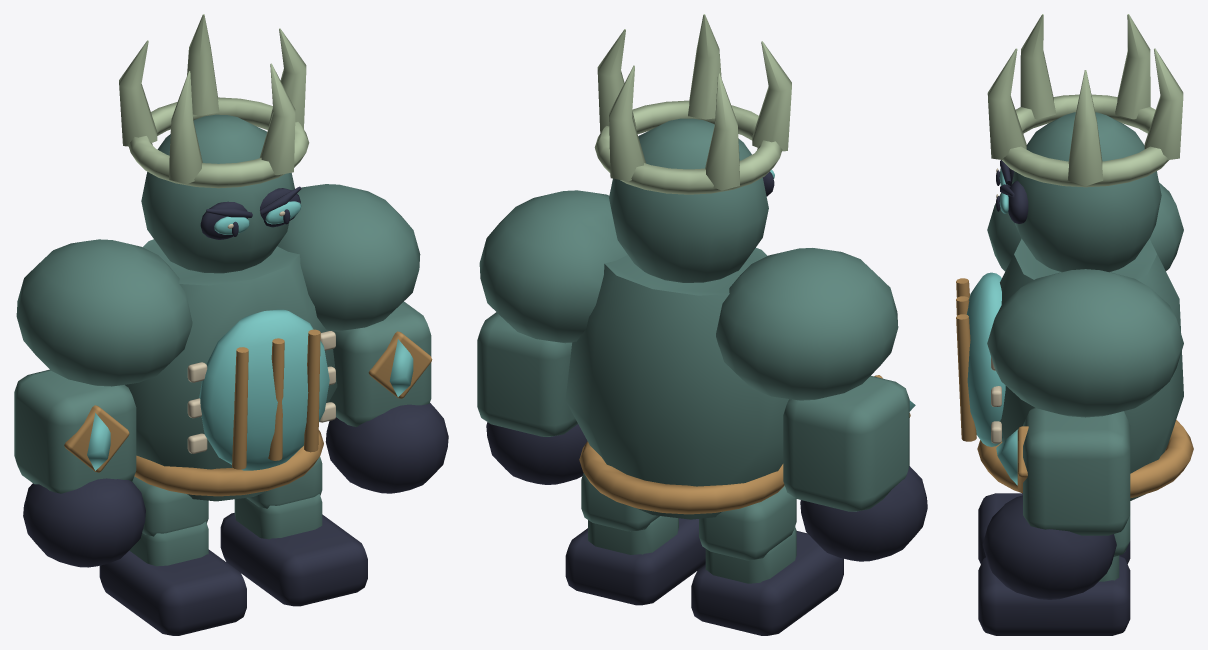
File: boss_7.glb
3 renders of one model, left to right at view 1: azimuth 30°, elevation 25°; view 2: azimuth 150°, elevation 25°; view 3: azimuth 270°, elevation 25°, orthographic. The views are drawn at different scales.
Parts seen in each view (by area): view 1: Email_Art_bras_g_0, Email_BestiaireSculpte, Email_Art_bras_d_0, Email_Art_tete_0, Email_Art_tibia_d_0, Email_Art_tibia_g_0, Email_Art_patte_g_0, Email_Art_patte_d_0; view 2: Email_Art_bras_g_0, Email_BestiaireSculpte, Email_Art_tete_0, Email_Art_bras_d_0, Email_Art_tibia_g_0, Email_Art_tibia_d_0, Email_Art_patte_g_0, Email_Art_patte_d_0; view 3: Email_Art_bras_d_0, Email_Art_tete_0, Email_BestiaireSculpte, Email_Art_tibia_d_0, Email_Art_bras_g_0, Email_Art_tibia_g_0, Email_Art_patte_d_0.
Boxes of the visible parts, x1,y1,x2,y2 form: Email_Art_bras_g_0: (14, 239, 192, 567); Email_BestiaireSculpte: (125, 239, 337, 501); Email_Art_bras_d_0: (277, 184, 448, 493); Email_Art_tete_0: (119, 14, 309, 273); Email_Art_tibia_d_0: (220, 494, 367, 606); Email_Art_tibia_g_0: (99, 521, 246, 635); Email_Art_patte_g_0: (132, 476, 208, 536); Email_Art_patte_d_0: (246, 456, 322, 508); Email_Art_bras_g_0: (716, 248, 927, 561); Email_BestiaireSculpte: (565, 248, 788, 519); Email_Art_tete_0: (594, 14, 791, 282); Email_Art_bras_d_0: (477, 190, 627, 484); Email_Art_tibia_g_0: (691, 527, 843, 635); Email_Art_tibia_d_0: (565, 516, 705, 605); Email_Art_patte_g_0: (699, 485, 796, 560); Email_Art_patte_d_0: (581, 473, 659, 531); Email_Art_bras_d_0: (982, 269, 1183, 599); Email_Art_tete_0: (987, 14, 1183, 272); Email_BestiaireSculpte: (956, 238, 1193, 500); Email_Art_tibia_d_0: (978, 555, 1130, 635); Email_Art_bras_g_0: (987, 182, 1183, 271); Email_Art_tibia_g_0: (978, 493, 1130, 564); Email_Art_patte_d_0: (1113, 515, 1130, 556).
Size of the model in its own units: 1.08 by 1.36 by 0.5314.
